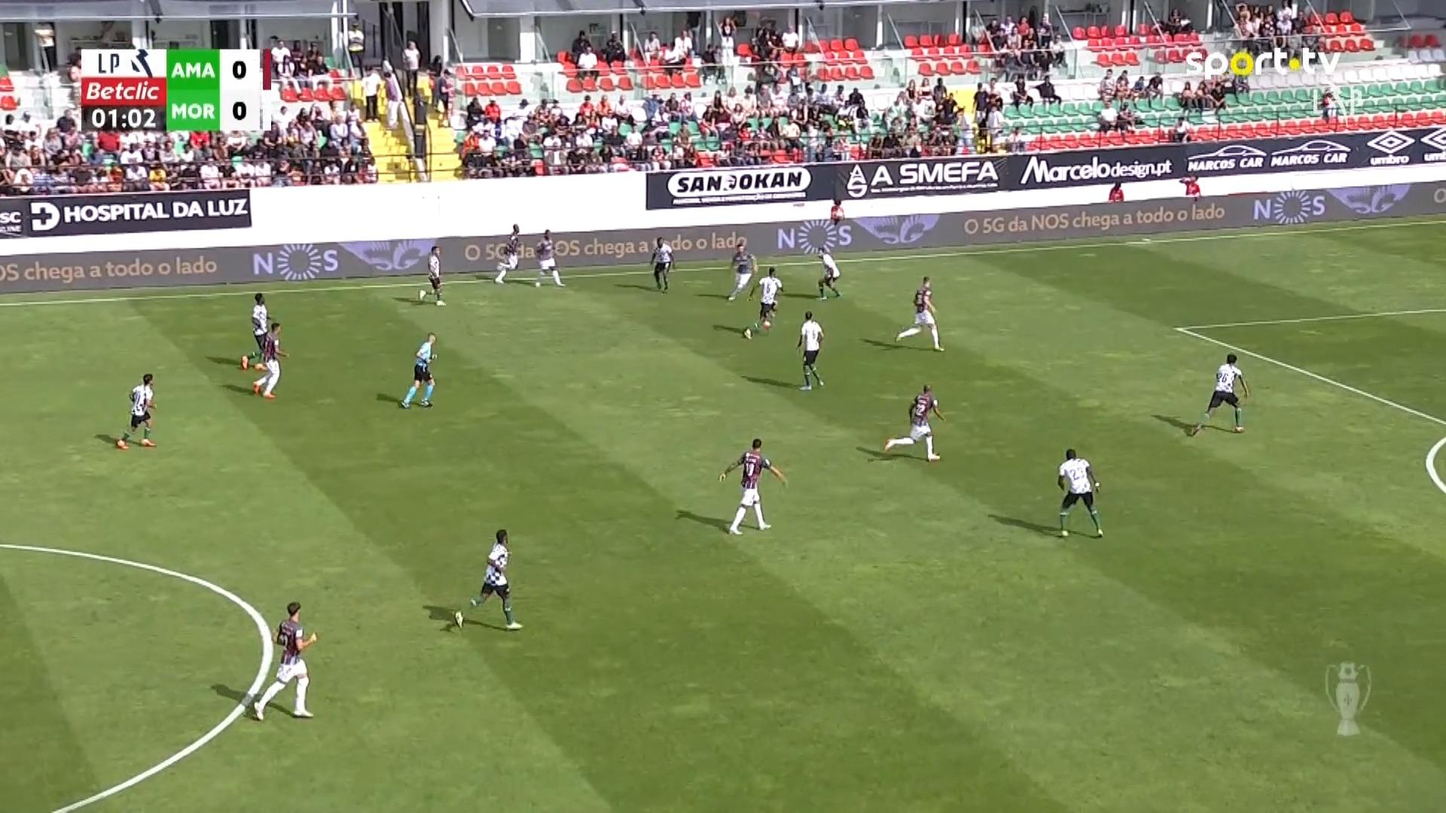ball: (742, 328, 754, 339)
player: (250, 601, 318, 720), (453, 528, 523, 630), (718, 437, 787, 535), (1188, 352, 1249, 435), (883, 383, 944, 461), (1056, 447, 1103, 538), (895, 275, 944, 352), (114, 373, 157, 449), (742, 266, 783, 339), (252, 321, 289, 399), (795, 310, 825, 391), (239, 292, 270, 370), (725, 237, 757, 301), (532, 228, 564, 287), (418, 245, 446, 306), (493, 223, 520, 284), (648, 236, 673, 293), (815, 244, 840, 300)
referee: (398, 331, 438, 409)
